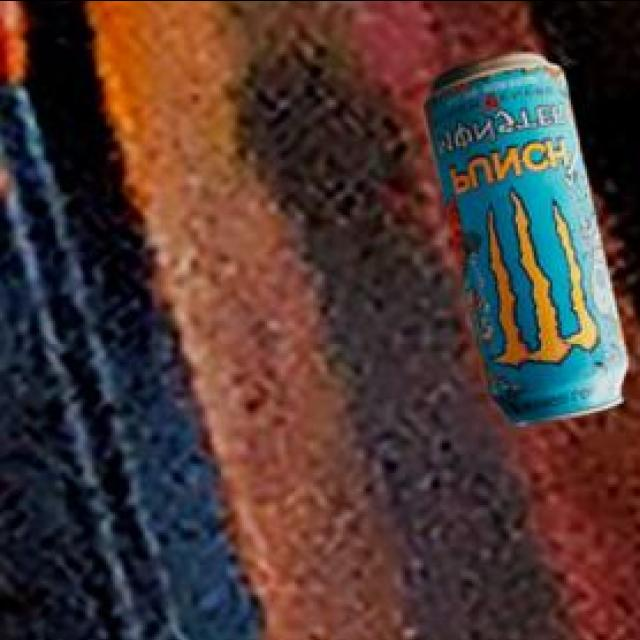logam: (427, 56, 632, 429)
